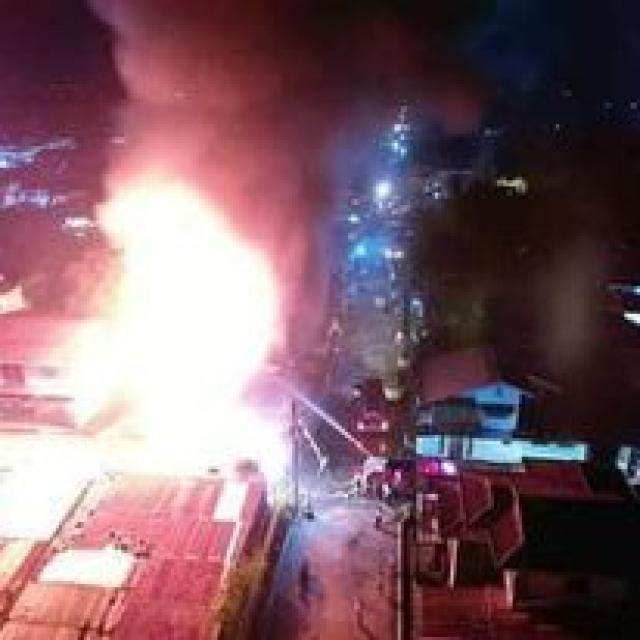Fire: (40, 174, 297, 472)
Smoke: (79, 0, 517, 343)
